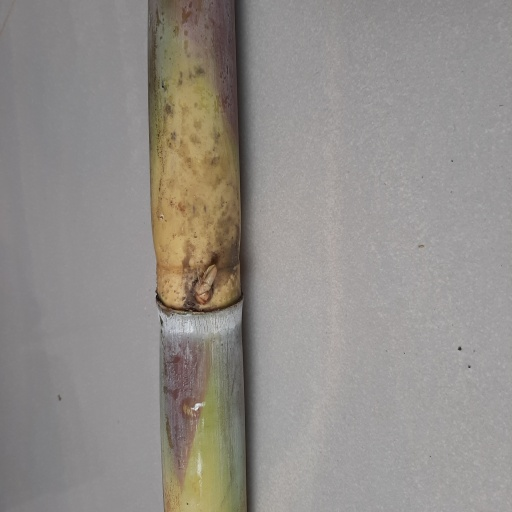Sprouted_Bud: (192, 263, 218, 305)
